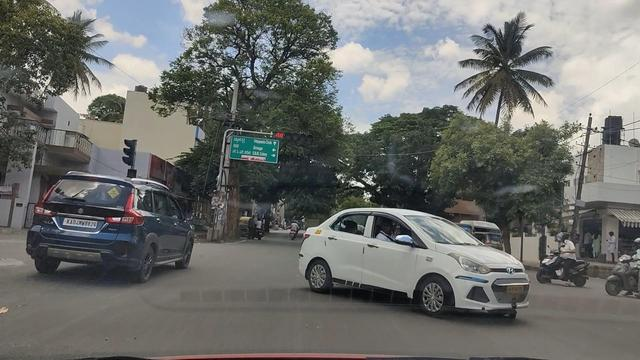LMV: (272, 213, 534, 328), (42, 170, 198, 285)
